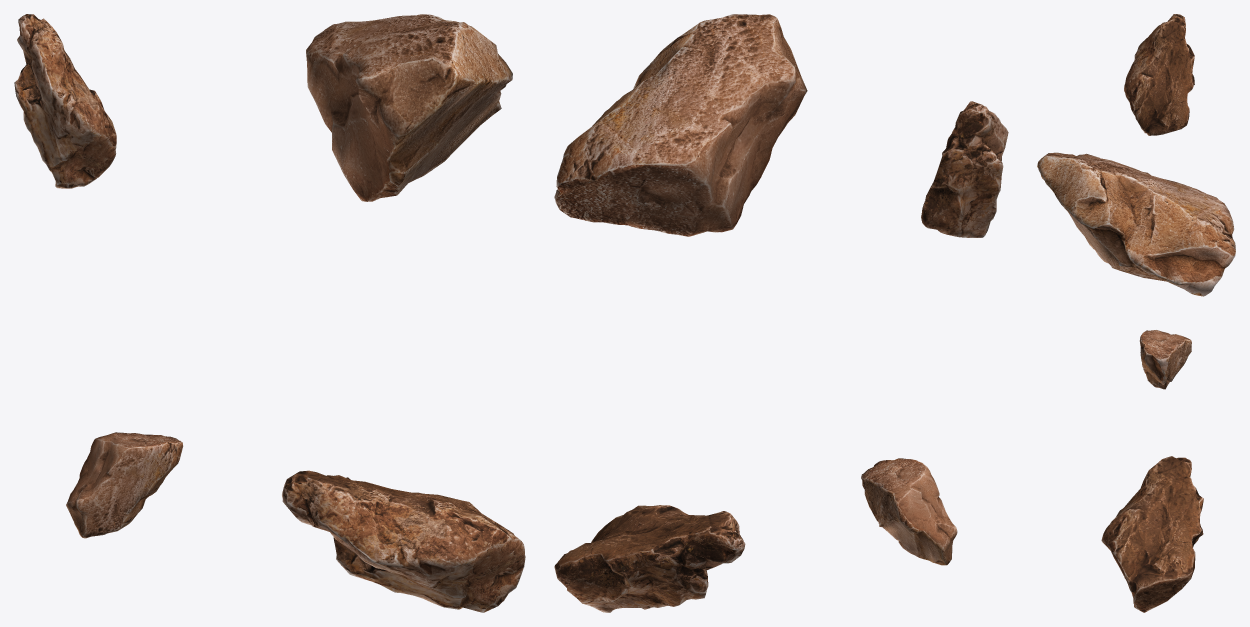
The model's file is Smars_giantCluster.obj.
3 views of the same model, side by side, from view 1: azimuth 30°, elevation 25°; view 2: azimuth 150°, elevation 25°; view 3: azimuth 270°, elevation 25° (orthographic). The views are drawn at different scales.
Parts seen in each view (by area): view 1: Rock_04_LOD0.036_Rock_04_LOD0.003, Rock_05_LOD0.034_Rock_05_LOD0.003, Rock_05_LOD0.033_Rock_05_LOD0.002, Rock_04_LOD0.035_Rock_04_LOD0.002; view 2: Rock_04_LOD0.036_Rock_04_LOD0.003, Rock_05_LOD0.034_Rock_05_LOD0.003, Rock_05_LOD0.033_Rock_05_LOD0.002, Rock_04_LOD0.035_Rock_04_LOD0.002; view 3: Rock_04_LOD0.036_Rock_04_LOD0.003, Rock_05_LOD0.034_Rock_05_LOD0.003, Rock_05_LOD0.033_Rock_05_LOD0.002, Rock_04_LOD0.035_Rock_04_LOD0.002.
Part boxes in pixels (x1,y1,x2,y2): Rock_04_LOD0.036_Rock_04_LOD0.003: (306,14,512,201); Rock_05_LOD0.034_Rock_05_LOD0.003: (282,470,525,612); Rock_05_LOD0.033_Rock_05_LOD0.002: (14,14,116,188); Rock_04_LOD0.035_Rock_04_LOD0.002: (66,432,183,538); Rock_04_LOD0.036_Rock_04_LOD0.003: (554,14,807,236); Rock_05_LOD0.034_Rock_05_LOD0.003: (554,505,745,612); Rock_05_LOD0.033_Rock_05_LOD0.002: (921,101,1008,237); Rock_04_LOD0.035_Rock_04_LOD0.002: (861,458,957,565); Rock_04_LOD0.036_Rock_04_LOD0.003: (1037,152,1235,296); Rock_05_LOD0.034_Rock_05_LOD0.003: (1101,456,1203,612); Rock_05_LOD0.033_Rock_05_LOD0.002: (1124,14,1194,135); Rock_04_LOD0.035_Rock_04_LOD0.002: (1139,330,1191,389).
Bounding box in the file's own units: 27.73 × 36.92 × 14.59.
4 materials, 4 textured.
